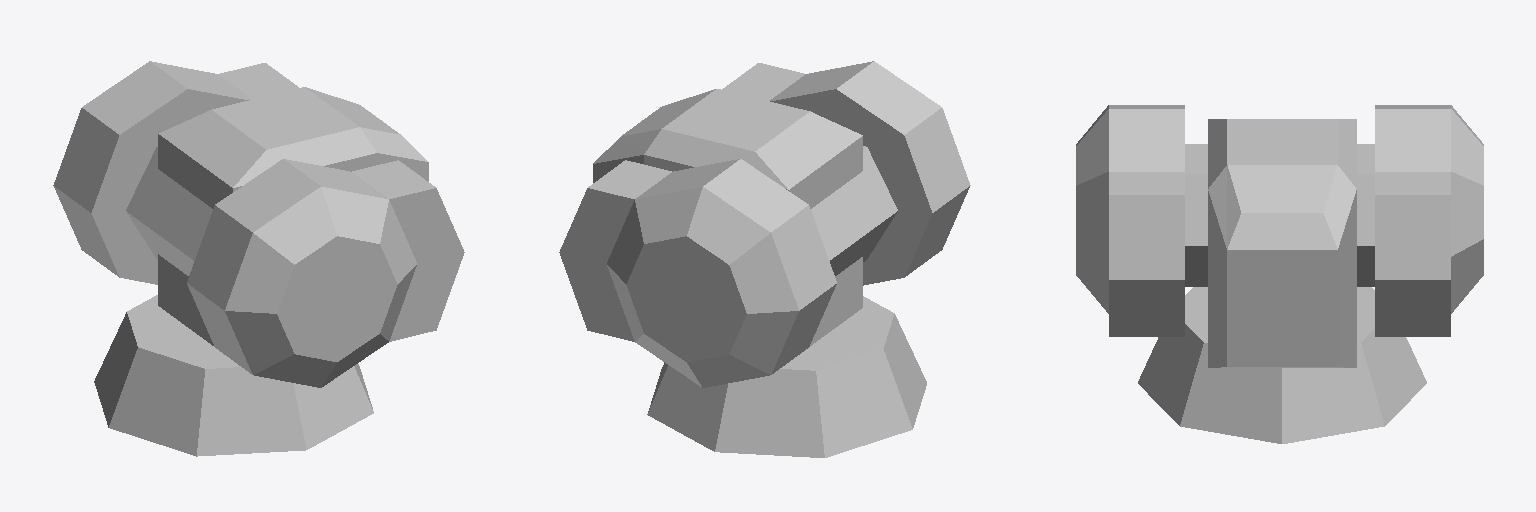
The model's file is turret.obj.
The picture shows the model from 3 angles: view 1: azimuth 30°, elevation 25°; view 2: azimuth 150°, elevation 25°; view 3: azimuth 270°, elevation 25°; orthographic projection.
Parts seen in each view (by area): view 1: cube1_sep5, cube1_sep2, cube1_sep6, cube1_sep3, cube1_sep4; view 2: cube1_sep6, cube1_sep2, cube1_sep5, cube1_sep3, cube1_sep4; view 3: cube1_sep3, cube1_sep5, cube1_sep6, cube1_sep2, cube1_sep4.
Boxes of the visible parts, <box> form: cube1_sep5: <box>187,159,464,387</box>; cube1_sep2: <box>94,295,373,456</box>; cube1_sep6: <box>53,61,298,284</box>; cube1_sep3: <box>158,87,428,345</box>; cube1_sep4: <box>126,147,212,275</box>; cube1_sep6: <box>559,159,836,387</box>; cube1_sep2: <box>647,296,926,457</box>; cube1_sep5: <box>722,61,970,285</box>; cube1_sep3: <box>593,89,862,345</box>; cube1_sep4: <box>811,146,897,275</box>; cube1_sep3: <box>1208,119,1356,367</box>; cube1_sep5: <box>1076,105,1184,336</box>; cube1_sep6: <box>1375,105,1483,336</box>; cube1_sep2: <box>1138,287,1426,443</box>; cube1_sep4: <box>1185,144,1374,286</box>.
Size of the model in its own units: 2.24 by 2.01 by 2.7.